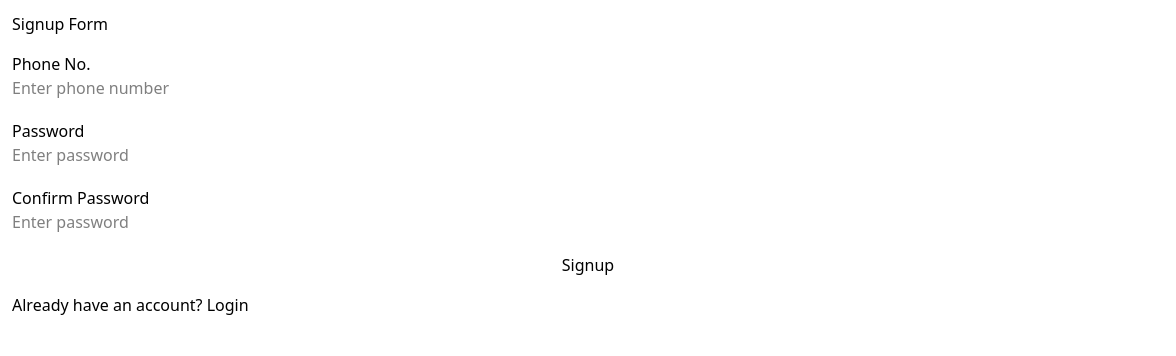
Test: Signup Component › shows validation error when password is missing
Type "1234567890" into the field labelled "Phone No.".
click(128, 88); type("1234567890")  # box left=12, top=76, right=243, bottom=100
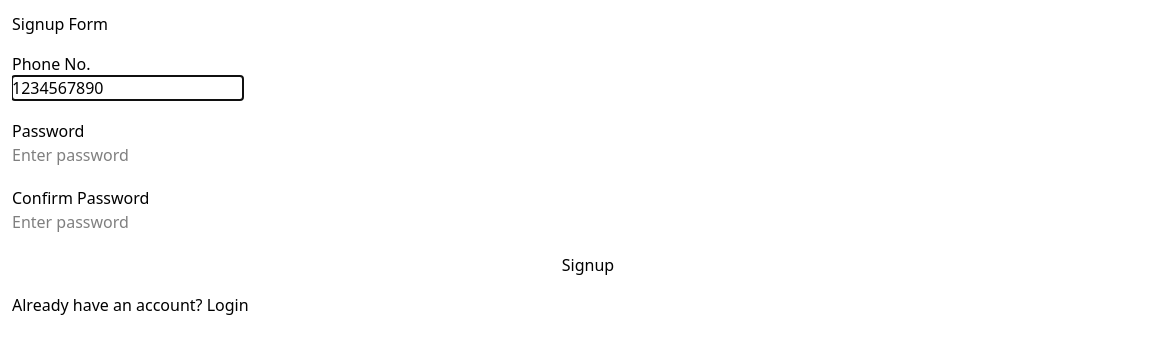
Click the button "Signup".
click(588, 265)  # box left=12, top=253, right=1164, bottom=277
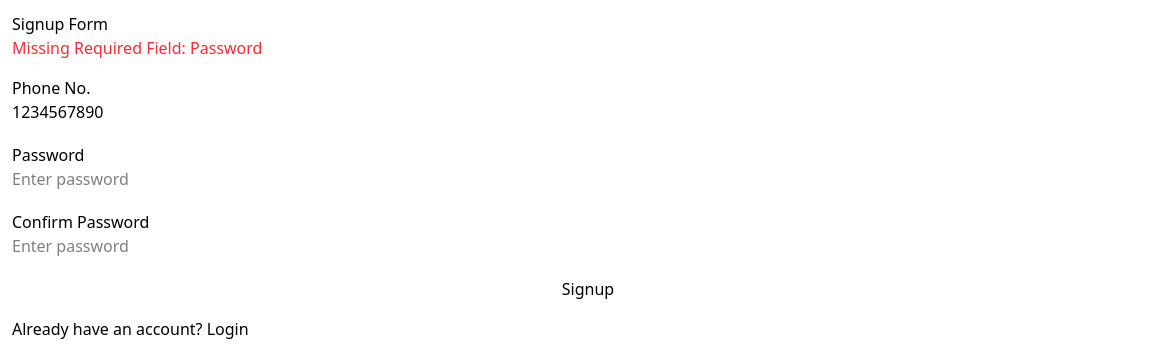
Check: the text "Missing Required Field: Password" is shown, box left=12, top=37, right=262, bottom=59
